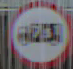Heavy Vehicles: (13, 7, 64, 52)
